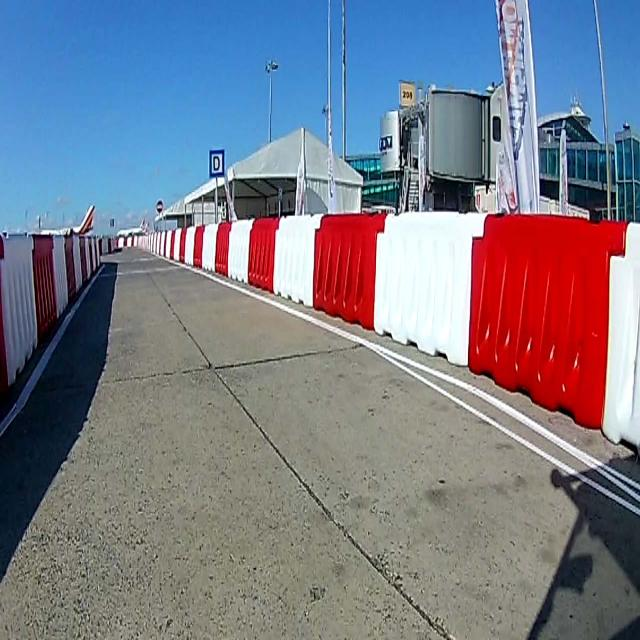durak: (210, 148, 224, 180)
girisyok: (155, 198, 163, 214)
